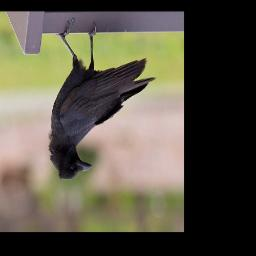Crow: (47, 22, 157, 180)
